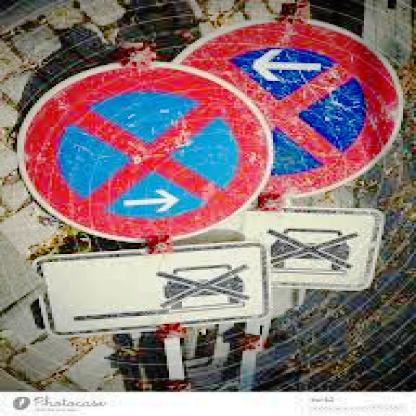No stopping: (166, 3, 410, 195), (19, 62, 273, 246)
